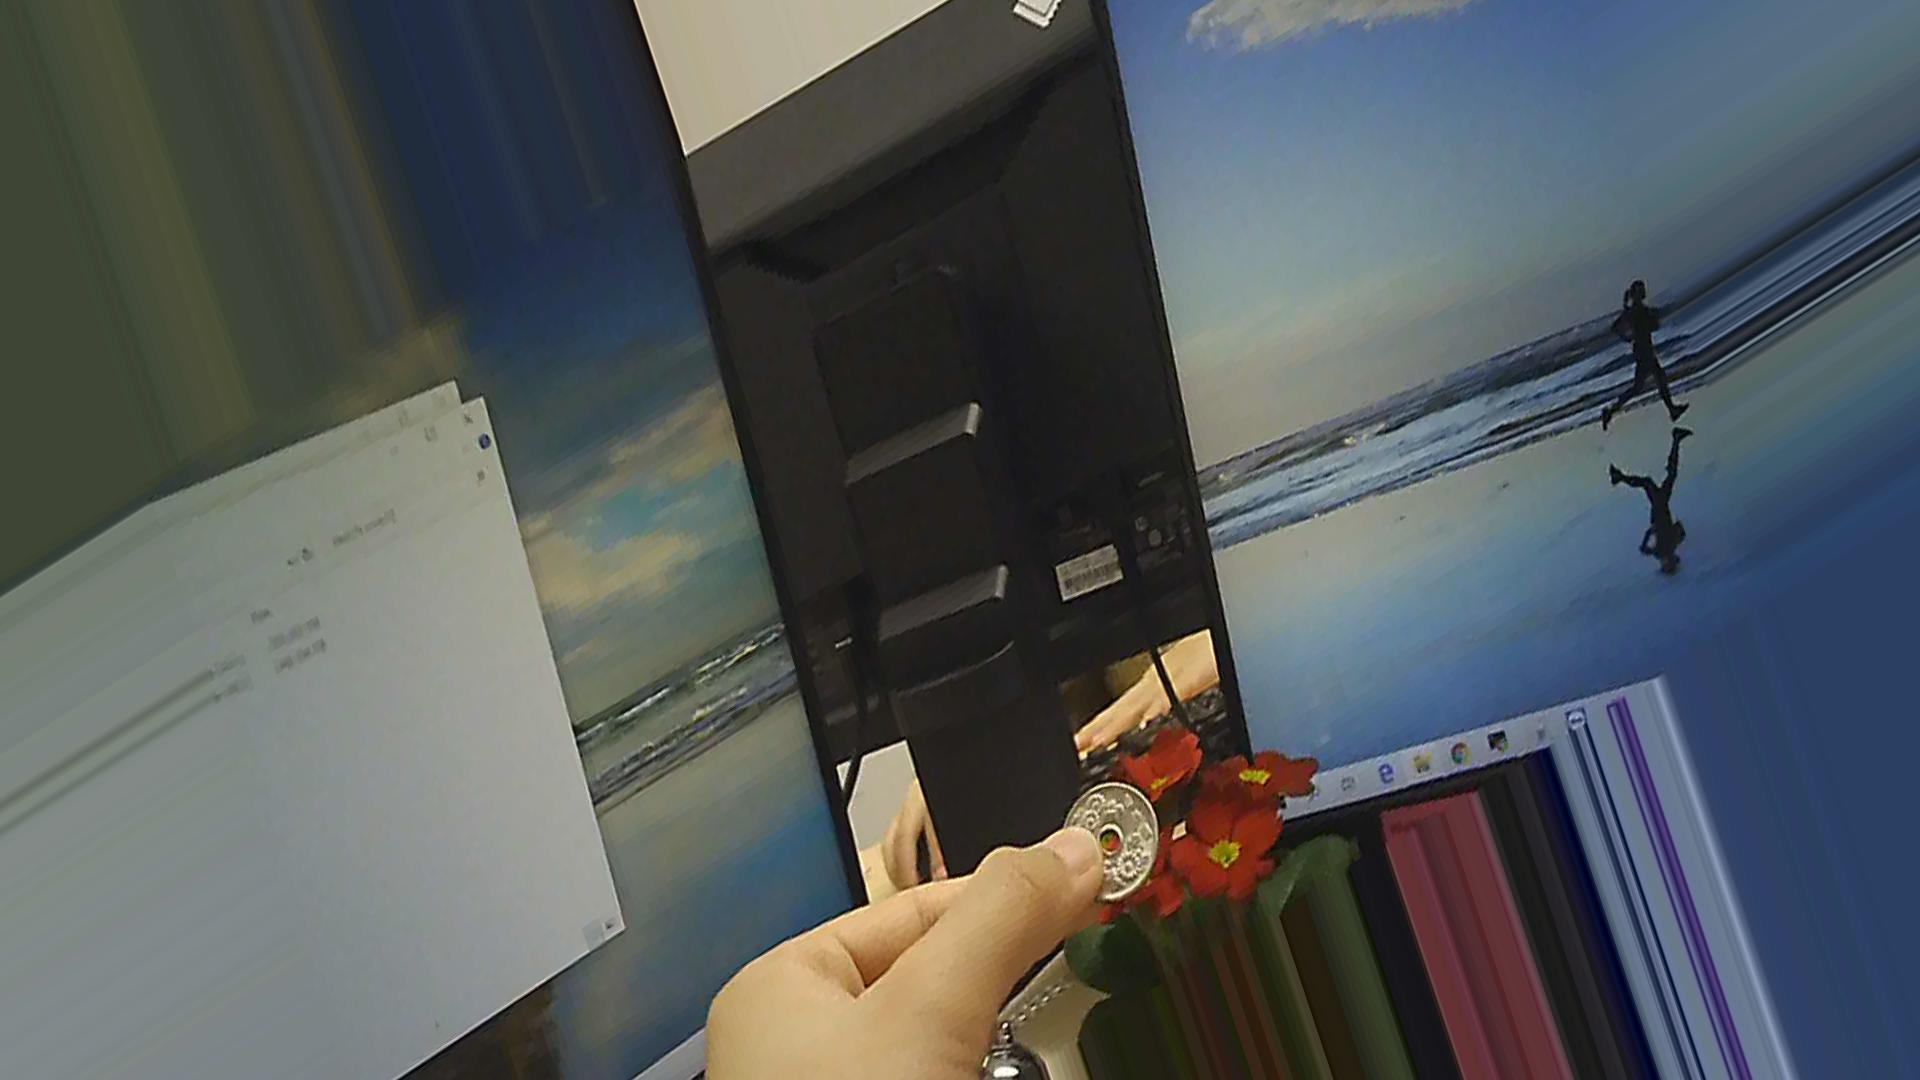50 Yen: (1059, 779, 1164, 910)
